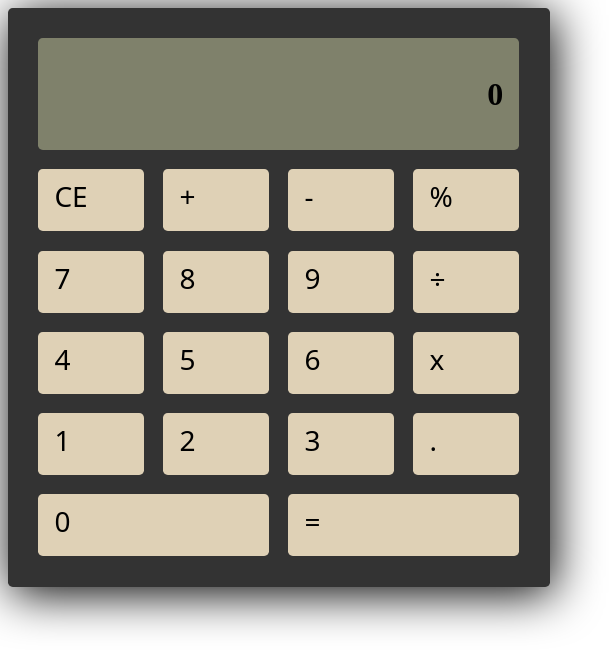
Calculator › appends numbers to the displayed value
This screenshot has width=609, height=650.
Click the button "7".
click(91, 282)  # box [38,251,144,313]
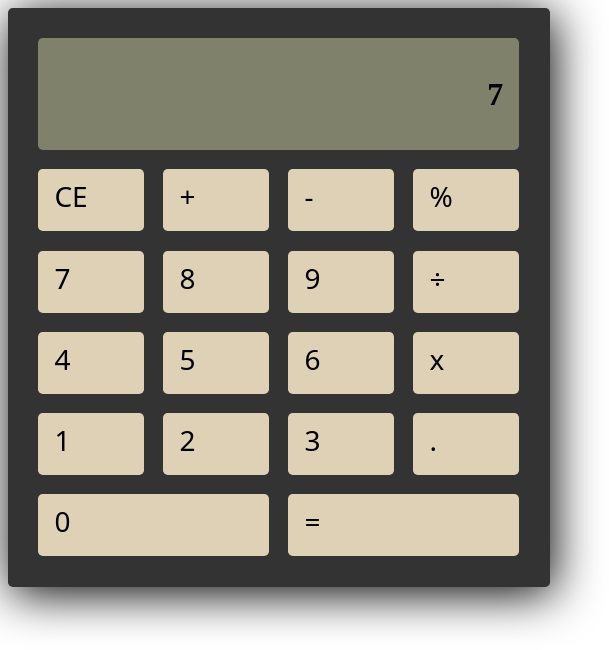
Click the button "8".
click(216, 282)  # box [163,251,269,313]
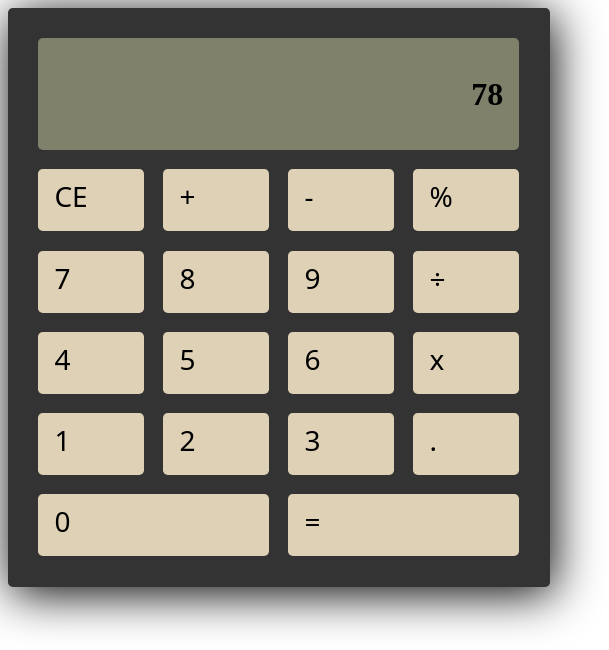
Click the button "9".
click(341, 282)  # box [288,251,394,313]
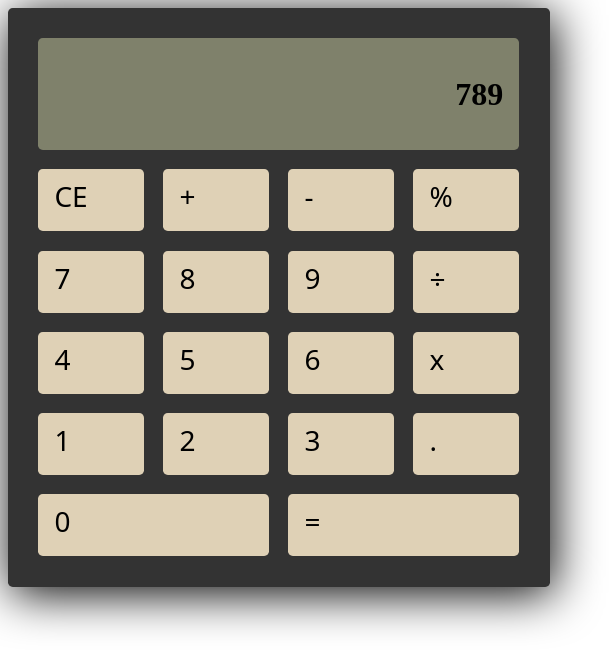
Expected: the heading "0" reads "789", [455,76,503,112]
